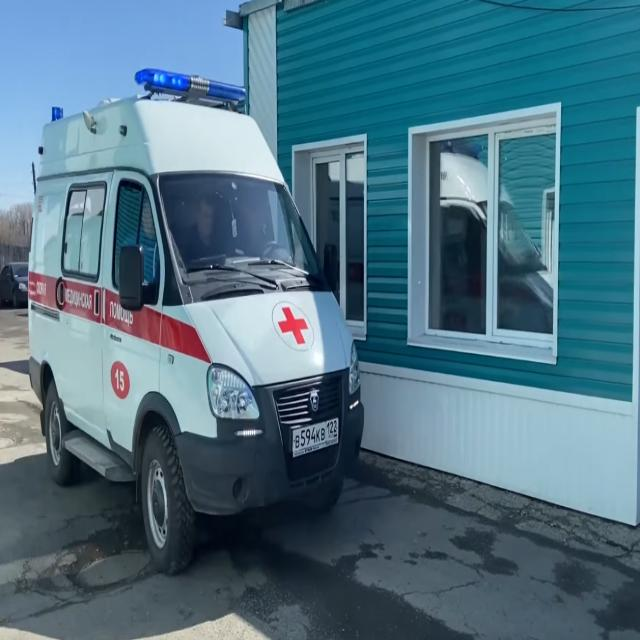ambulance: (26, 69, 365, 577)
